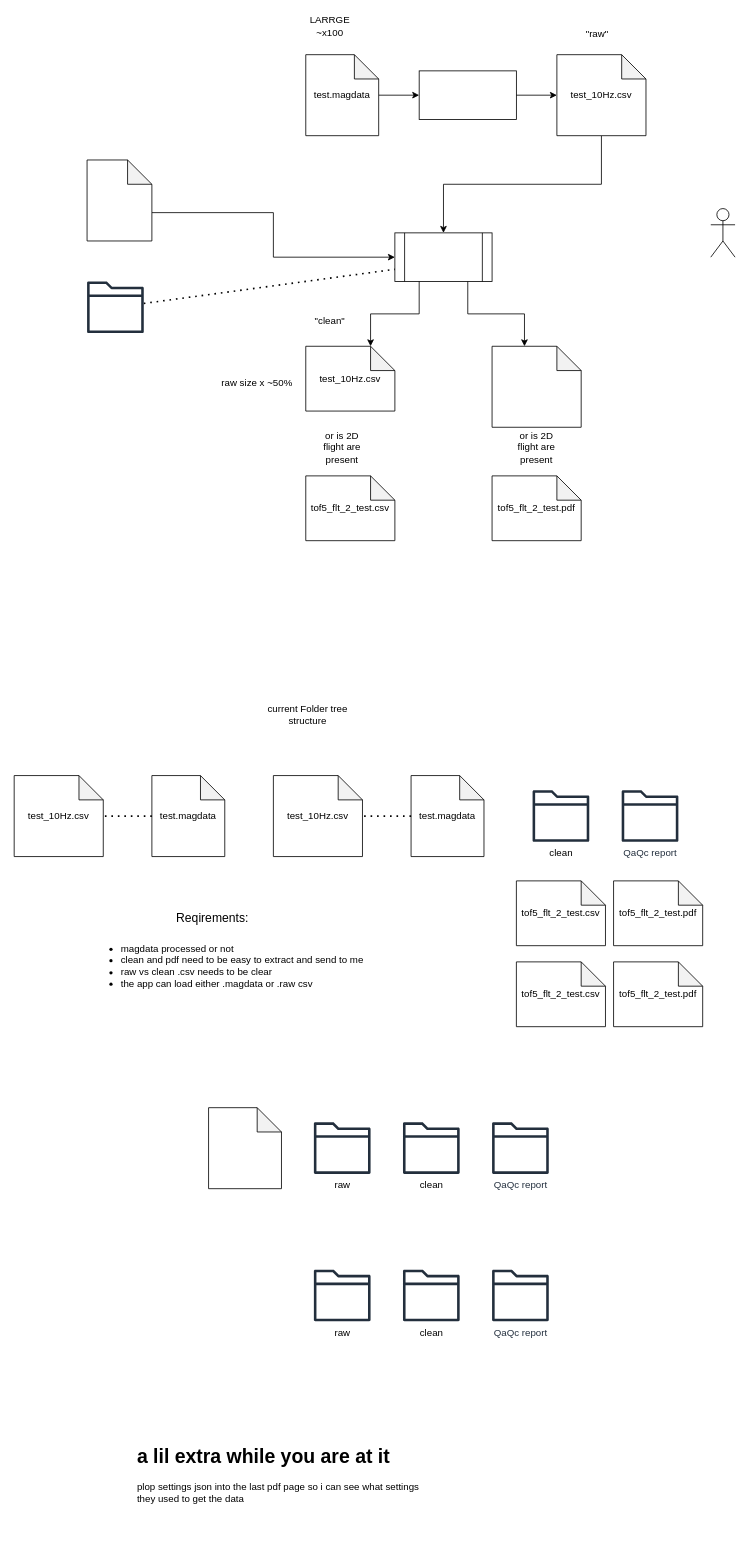
The diagram is 749 pixels wide and 1553 high, and some of its shapes have lost their labels. The shapes that lost their labels are listed below. From the top down, each one's centre as x and y in pixels, then its label:
At [467,94]: "automated clicker".
At [119,200]: "Lines for QaQc".
At [722,232]: "Actor".
At [115,307]: "2D flgihts Foldler".
At [536,386]: "test_10Hz.pdf".
At [244,1148]: "✅test.magdata".
